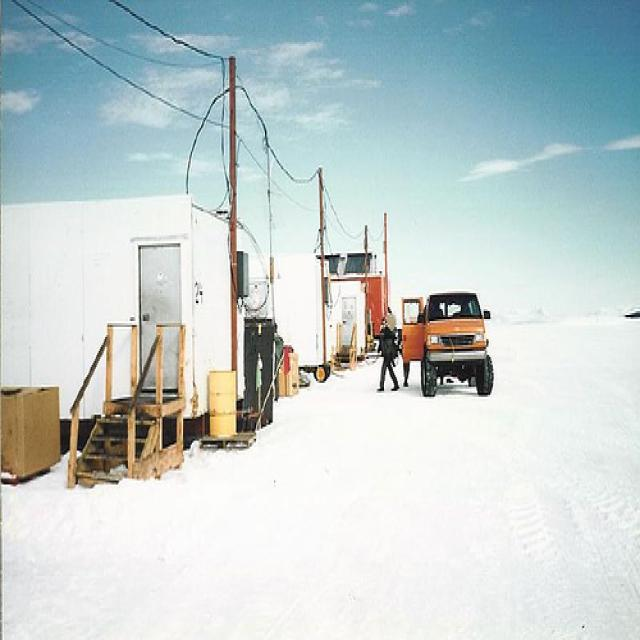car: (402, 290, 495, 396)
person: (378, 314, 401, 396)
